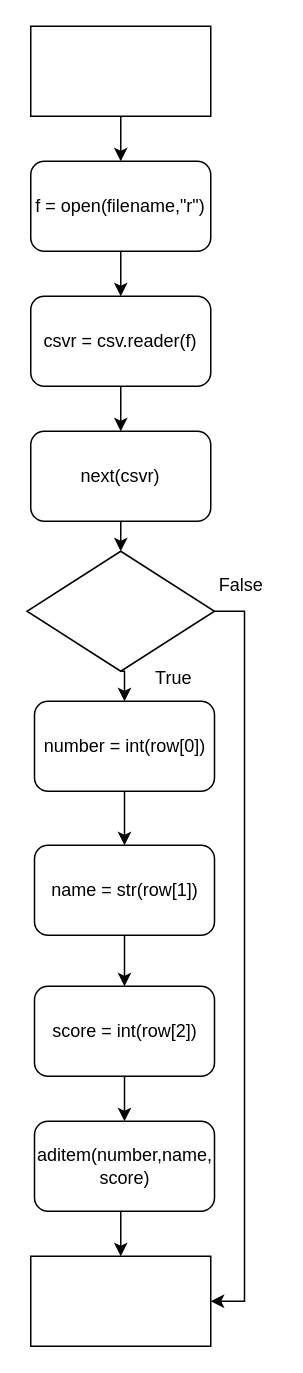
Image size: 303x1373. Some labels were removed from this diagram. Here are the shapes that lost their labels. From the top down, the centre of each, then its label:
point 120,70: def csvreader(self, filename) 関数 開始
point 120,610: row in csvr
point 120,1300: 終了
